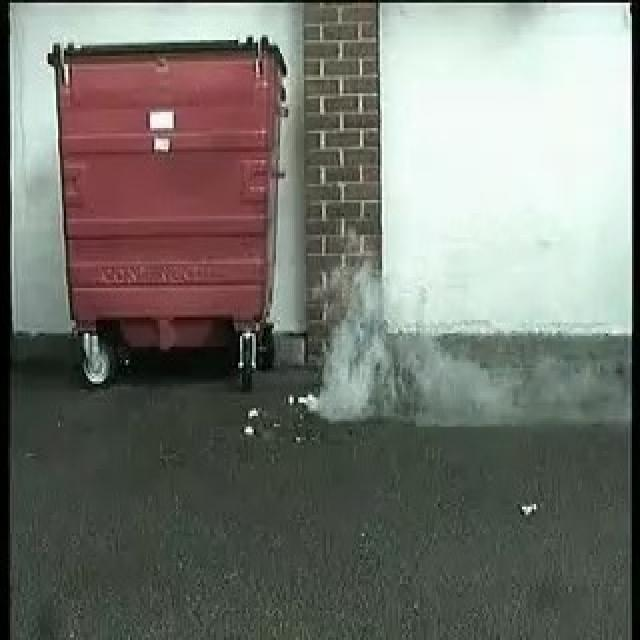smoke: (300, 288, 470, 426)
